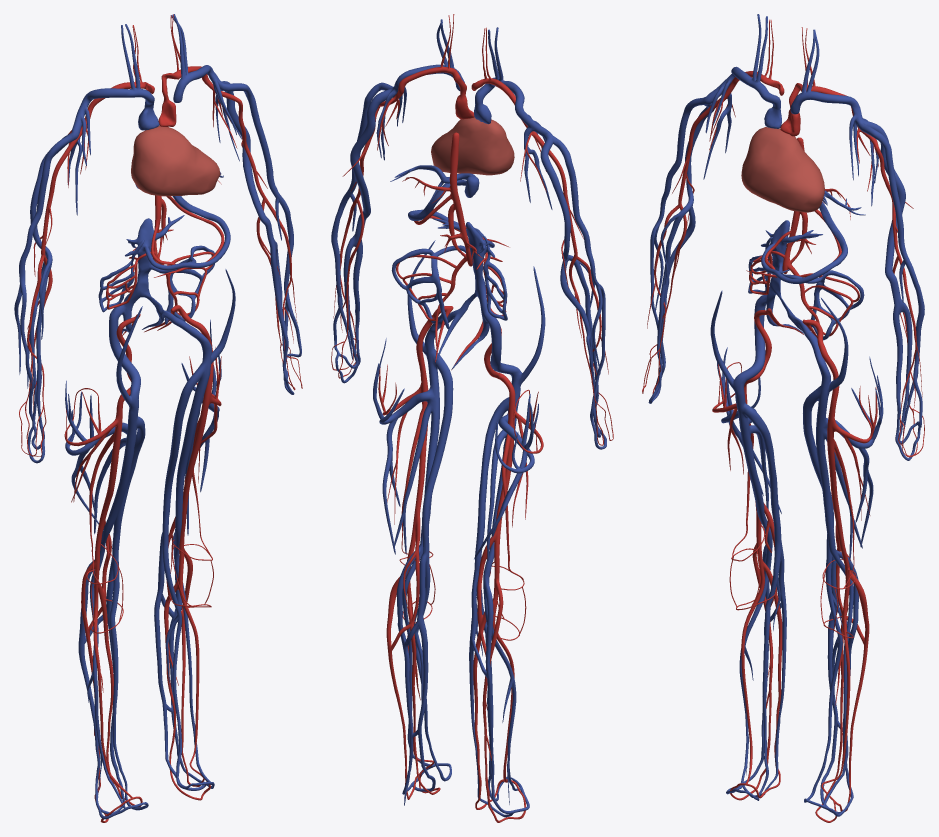
The model's file is pediatric_child_5y_male.cardiovascular.LOD0.glb.
The picture shows the model from 3 angles, left to right: view 1: azimuth 30°, elevation 25°; view 2: azimuth 150°, elevation 25°; view 3: azimuth 330°, elevation 25°; orthographic projection.
Visible parts, largest first — view 1: PEDIATRIC.CHILD_5Y.MALE.CARDIOVASCULAR.BLOOD_IN_LARGE_VEINS, PEDIATRIC.CHILD_5Y.MALE.CARDIOVASCULAR.BLOOD_IN_LARGE_ARTERI, PEDIATRIC.CHILD_5Y.MALE.CARDIOVASCULAR.HEART_WALL; view 2: PEDIATRIC.CHILD_5Y.MALE.CARDIOVASCULAR.BLOOD_IN_LARGE_VEINS, PEDIATRIC.CHILD_5Y.MALE.CARDIOVASCULAR.BLOOD_IN_LARGE_ARTERI, PEDIATRIC.CHILD_5Y.MALE.CARDIOVASCULAR.HEART_WALL; view 3: PEDIATRIC.CHILD_5Y.MALE.CARDIOVASCULAR.BLOOD_IN_LARGE_VEINS, PEDIATRIC.CHILD_5Y.MALE.CARDIOVASCULAR.BLOOD_IN_LARGE_ARTERI, PEDIATRIC.CHILD_5Y.MALE.CARDIOVASCULAR.HEART_WALL.
Boxes of the visible parts, bbox=[...] form: PEDIATRIC.CHILD_5Y.MALE.CARDIOVASCULAR.BLOOD_IN_LARGE_VEINS: bbox=[14, 14, 301, 819]; PEDIATRIC.CHILD_5Y.MALE.CARDIOVASCULAR.BLOOD_IN_LARGE_ARTERI: bbox=[19, 14, 302, 822]; PEDIATRIC.CHILD_5Y.MALE.CARDIOVASCULAR.HEART_WALL: bbox=[131, 126, 220, 196]; PEDIATRIC.CHILD_5Y.MALE.CARDIOVASCULAR.BLOOD_IN_LARGE_VEINS: bbox=[331, 19, 606, 817]; PEDIATRIC.CHILD_5Y.MALE.CARDIOVASCULAR.BLOOD_IN_LARGE_ARTERI: bbox=[331, 14, 613, 822]; PEDIATRIC.CHILD_5Y.MALE.CARDIOVASCULAR.HEART_WALL: bbox=[431, 117, 514, 175]; PEDIATRIC.CHILD_5Y.MALE.CARDIOVASCULAR.BLOOD_IN_LARGE_VEINS: bbox=[648, 14, 924, 816]; PEDIATRIC.CHILD_5Y.MALE.CARDIOVASCULAR.BLOOD_IN_LARGE_ARTERI: bbox=[642, 19, 924, 822]; PEDIATRIC.CHILD_5Y.MALE.CARDIOVASCULAR.HEART_WALL: bbox=[741, 127, 824, 212].
Size of the model in its own units: 0.3473 by 0.9433 by 0.1172.
